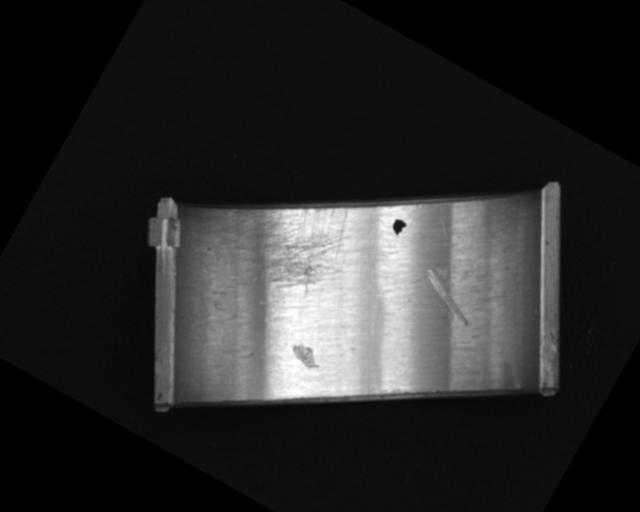blot: (388, 215, 409, 238)
bruise: (286, 338, 326, 372)
nick: (402, 216, 459, 295), (412, 267, 482, 326)
scratch: (214, 161, 375, 317)
